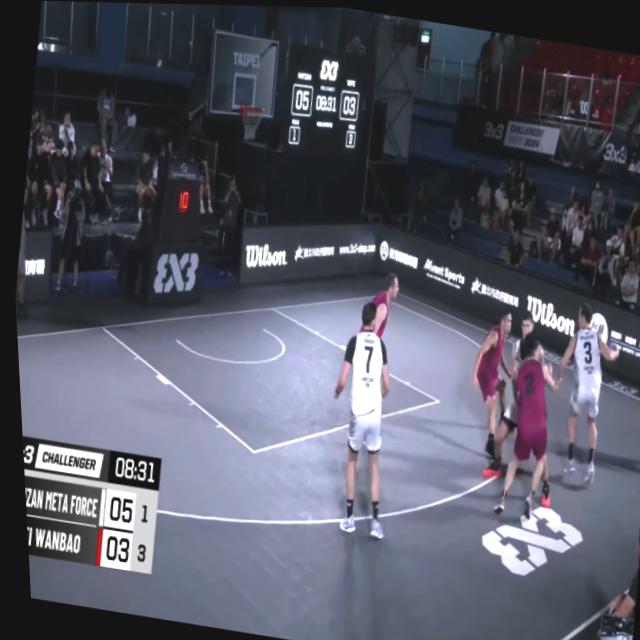ball: (595, 332, 622, 371)
hoop: (235, 99, 267, 152)
player: (305, 293, 417, 540), (468, 295, 576, 507), (322, 262, 413, 477), (479, 326, 570, 524), (535, 300, 627, 486), (453, 305, 521, 469), (476, 494, 491, 500)
